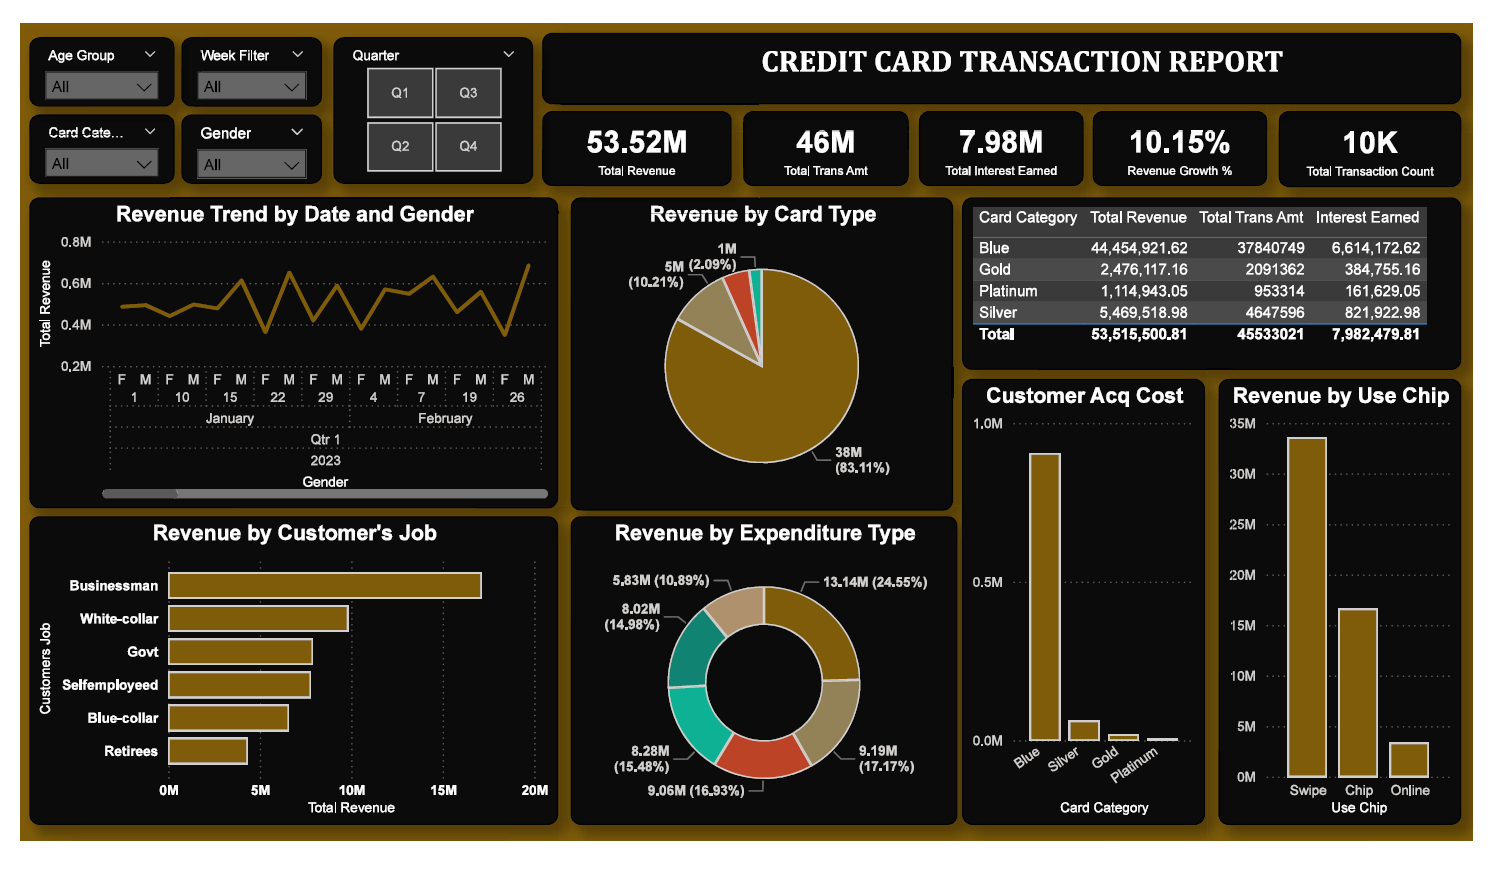

This screenshot's page, from the dashboard's own definition file:
{"tool":"powerbi","page":{"name":"Transaction report","canvas":[1280,720],"ordinal":1},"visuals":[{"type":"card","fields":{"Values":["CreditCard.Total Revenue"]},"box":[714.1,67.5,179,73.1],"z":0},{"type":"card","fields":{"Values":["CreditCard.Current Week Revenue"]},"box":[343.9,67.5,179,73.1],"z":1000},{"type":"card","fields":{"Values":["CreditCard.Previous Week Revenue"]},"box":[531.4,67.5,176.2,73.1],"z":2000},{"type":"card","fields":{"Values":["CreditCard.Revenue Growth %"]},"box":[899.7,68.4,176.2,72.2],"z":3000},{"type":"slicer","fields":{"Values":["CreditCard.Week Num"]},"box":[172.4,13.1,157.4,60.9],"z":5000},{"type":"slicer","fields":{"Values":["CreditCard.Card_Category"]},"box":[8.4,79.7,321.5,60.9],"z":6000},{"type":"lineChart","title":"Revenue Trend","fields":{"Category":["CreditCard.Week Num"],"Y":["CreditCard.Total Revenue"]},"box":[8.4,153.7,765.7,272.7],"z":7000},{"type":"clusteredBarChart","title":"Revenue by Cards Category","fields":{"Category":["CreditCard.Card_Category"],"Y":["CreditCard.Total Revenue"]},"box":[514.6,437.6,755.5,268],"z":8000},{"type":"lineChart","title":" Revenue by Gender","fields":{"Category":["customer.Gender"],"Y":["CreditCard.Total Revenue"]},"box":[8.4,437.7,493,268],"z":9000},{"type":"card","fields":{"Values":["CreditCard.Transaction Count"]},"box":[1083.4,68.4,186.5,72.2],"z":10000},{"type":"slicer","fields":{"Values":["customer.Age Group"]},"box":[8.4,12.2,153.7,60.9],"z":12000},{"type":"lineStackedColumnComboChart","title":" Revenue by Customers Job","fields":{"Y":["CreditCard.Total Revenue"],"Category":["customer.Customer_Job"]},"box":[783.5,153.7,486.4,272.7],"z":14000},{"type":"textbox","box":[343.9,11.2,925.9,49.7],"z":15000}]}

Visuals, with their boxes on the page's 1280x720 design canvas (x1, y1, x2, y2). These are canvas units, not pixel positions in the 1494x870 screenshot, which may show the page scaled, cropped or inside an application window:
card - CreditCard.Total Revenue: BBox(714, 68, 893, 141)
card - CreditCard.Current Week Revenue: BBox(344, 68, 523, 141)
card - CreditCard.Previous Week Revenue: BBox(531, 68, 708, 141)
card - CreditCard.Revenue Growth %: BBox(900, 68, 1076, 141)
slicer - CreditCard.Week Num: BBox(172, 13, 330, 74)
slicer - CreditCard.Card_Category: BBox(8, 80, 330, 141)
"Revenue Trend" lineChart: BBox(8, 154, 774, 426)
"Revenue by Cards Category" clusteredBarChart: BBox(515, 438, 1270, 706)
" Revenue by Gender" lineChart: BBox(8, 438, 501, 706)
card - CreditCard.Transaction Count: BBox(1083, 68, 1270, 141)
slicer - customer.Age Group: BBox(8, 12, 162, 73)
" Revenue by Customers Job" lineStackedColumnComboChart: BBox(784, 154, 1270, 426)
textbox: BBox(344, 11, 1270, 61)
